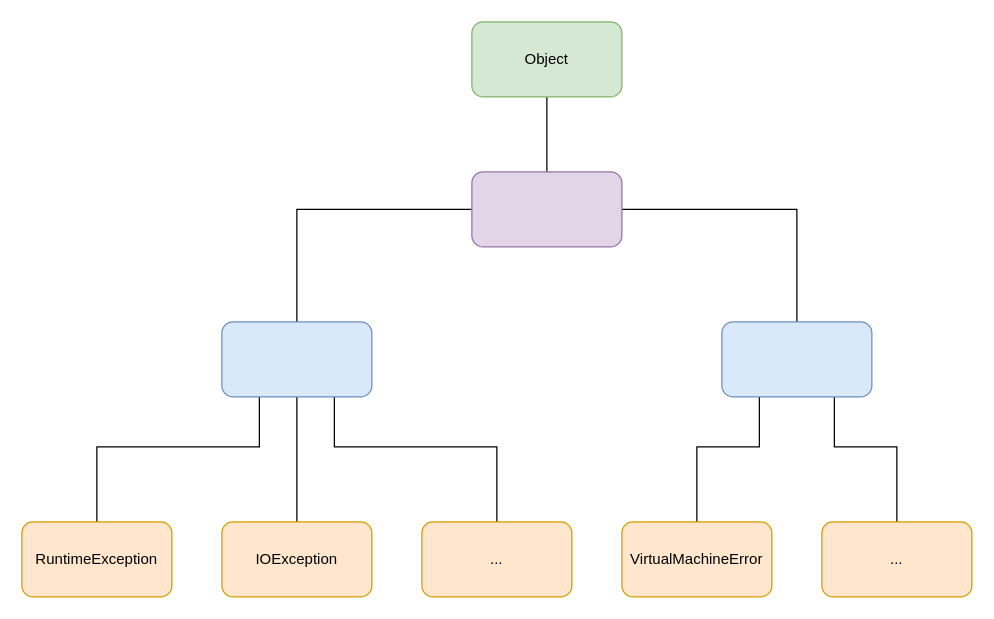
This 994x619 diagram has some shape labels left out. Each missing label, with the centre of its shape:
Error: pixel 796 359
Exception: pixel 296 359
Throwable: pixel 546 209
